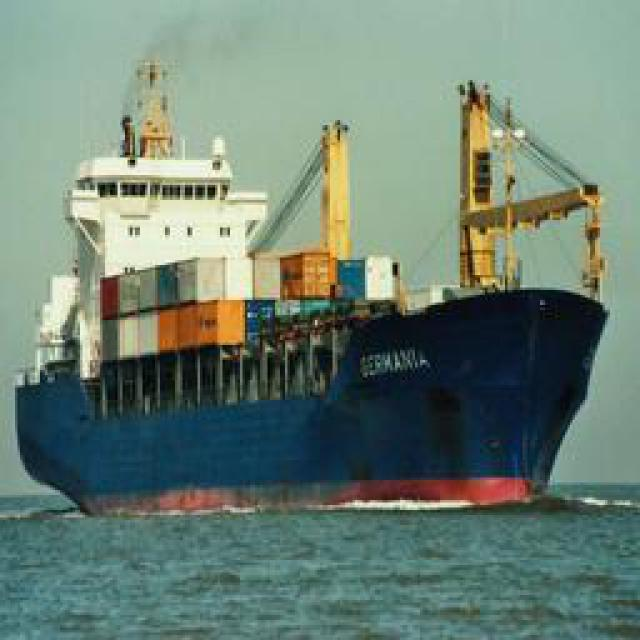Ship: (15, 95, 608, 513)
